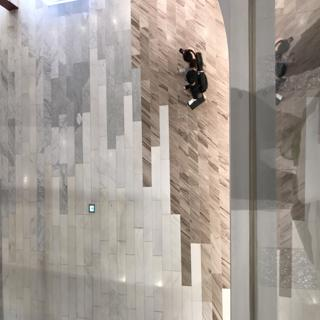person: (183, 72, 218, 115), (172, 39, 206, 68)
